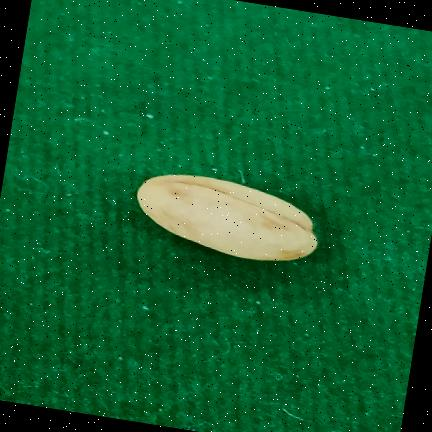parchment: (137, 175, 317, 261)
